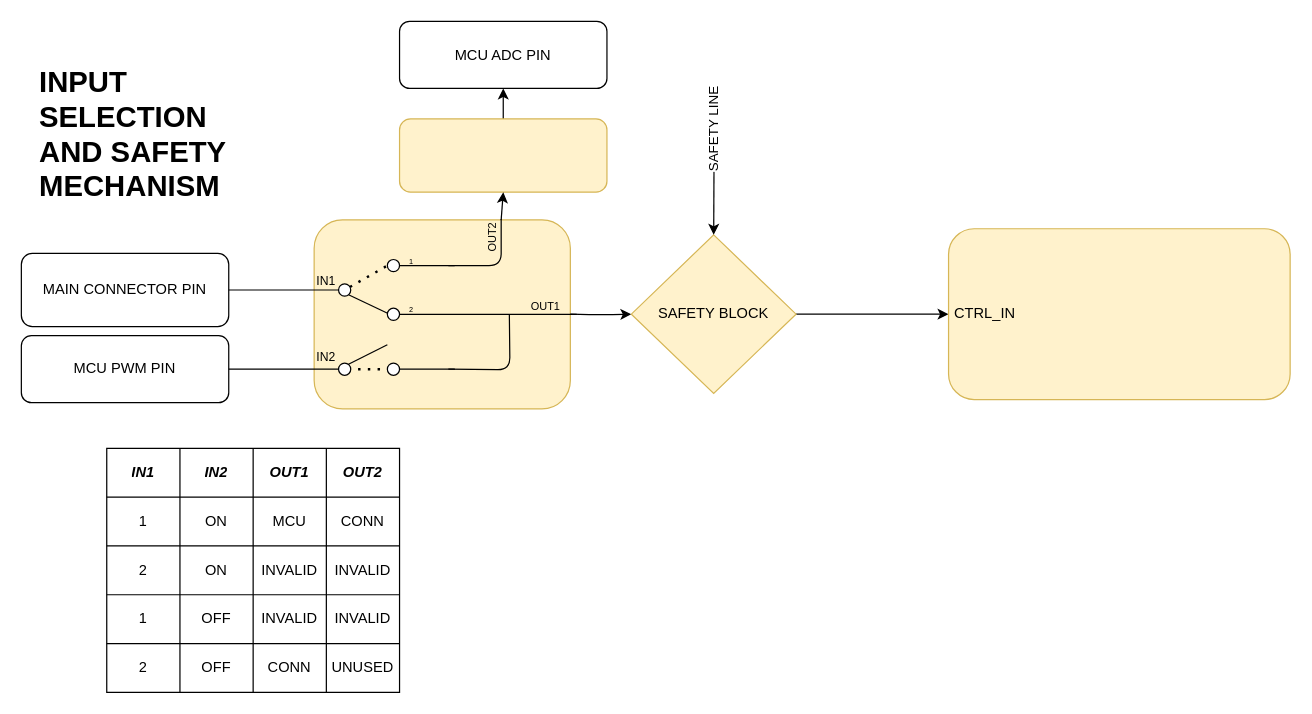
Image size: 1312x714. Some labels were removed from this diagram. The shapes that lost their labels are listed below. From the top down, each one's box as (x1, y1, x2, y2) in pixels, then its label:
(398, 118, 607, 192): ADC PROTECTION
(947, 228, 1290, 400): POWER CHANNEL
